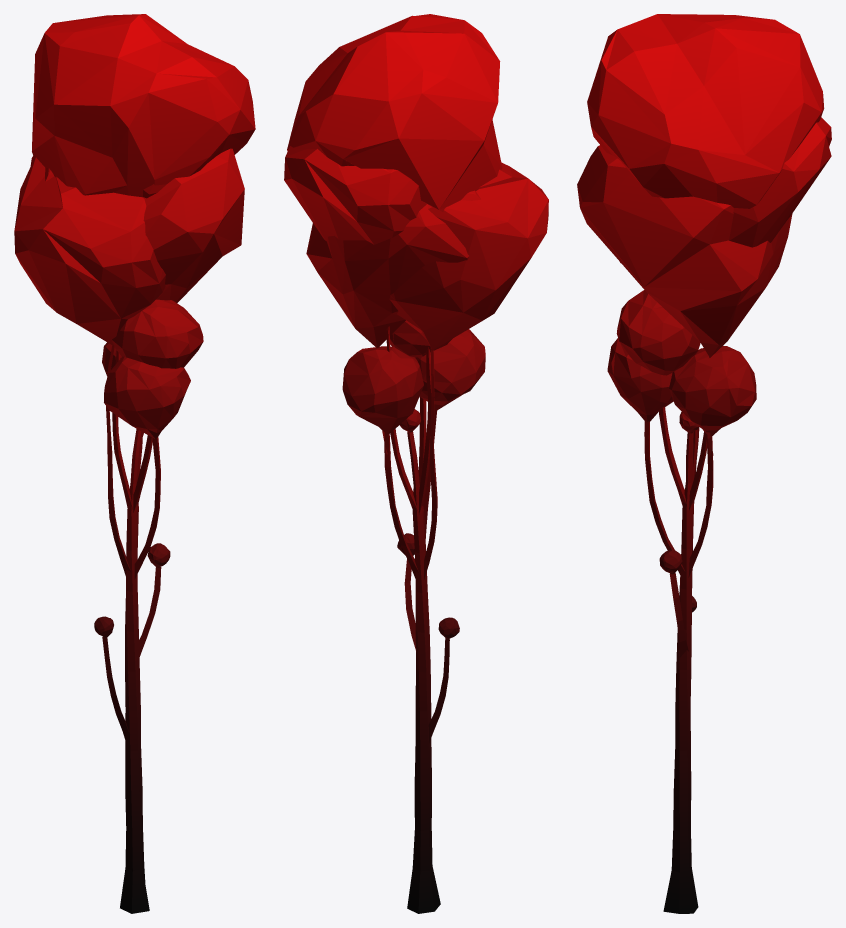
Rendered from TreeBirch01.fbx.
The picture shows the model from 3 angles, left to right: view 1: azimuth 30°, elevation 25°; view 2: azimuth 150°, elevation 25°; view 3: azimuth 270°, elevation 25°; orthographic projection.
Visible parts, largest first — view 1: TreeBirch01_LOD0; view 2: TreeBirch01_LOD0; view 3: TreeBirch01_LOD0.
Boxes of the visible parts, box(x1,y1,x2,y2) form: TreeBirch01_LOD0: box(14, 14, 255, 913); TreeBirch01_LOD0: box(284, 14, 548, 913); TreeBirch01_LOD0: box(577, 14, 831, 913).
Size of what is drawn, in the model's own units: 339 by 1259 by 326.
